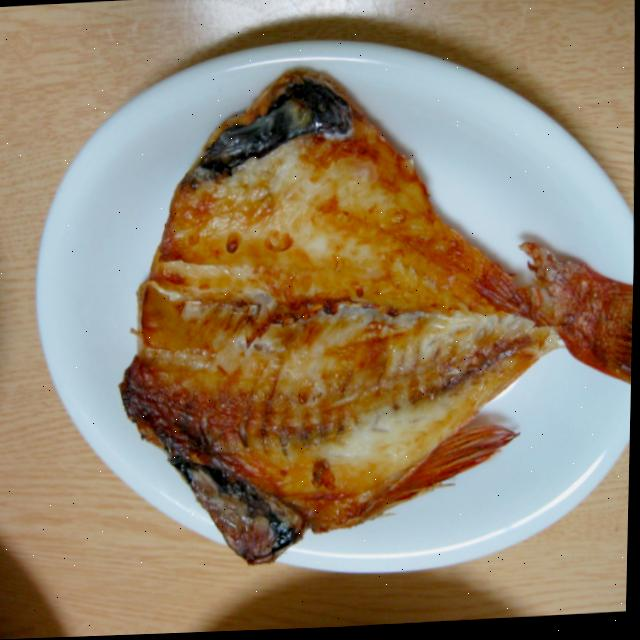熟制海鲜: (85, 38, 639, 599)
